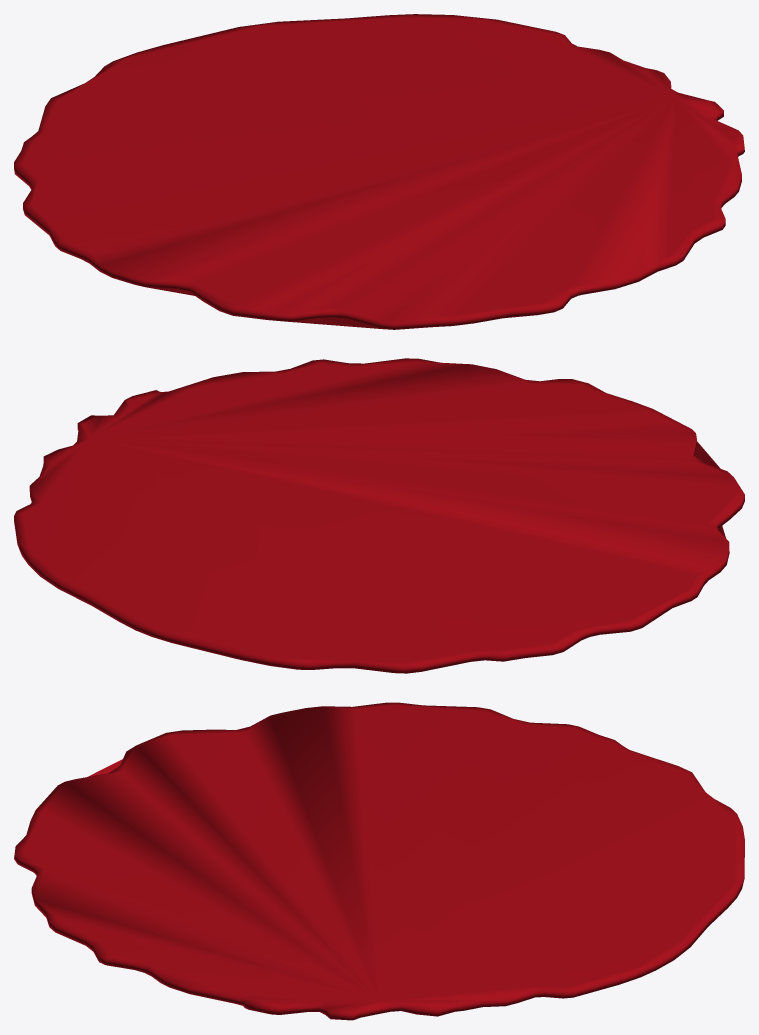
Rendered from sauce.fbx.
3 views of the same model, one above another, from view 1: azimuth 30°, elevation 25°; view 2: azimuth 150°, elevation 25°; view 3: azimuth 270°, elevation 25° (orthographic).
Visible parts, largest first — view 1: sauce; view 2: sauce; view 3: sauce.
Boxes of the visible parts, <box> form: sauce: <box>14,14,744,329</box>; sauce: <box>14,358,744,673</box>; sauce: <box>14,702,744,1020</box>.
Size of the model in its own units: 2248 by 31.12 by 2229.
